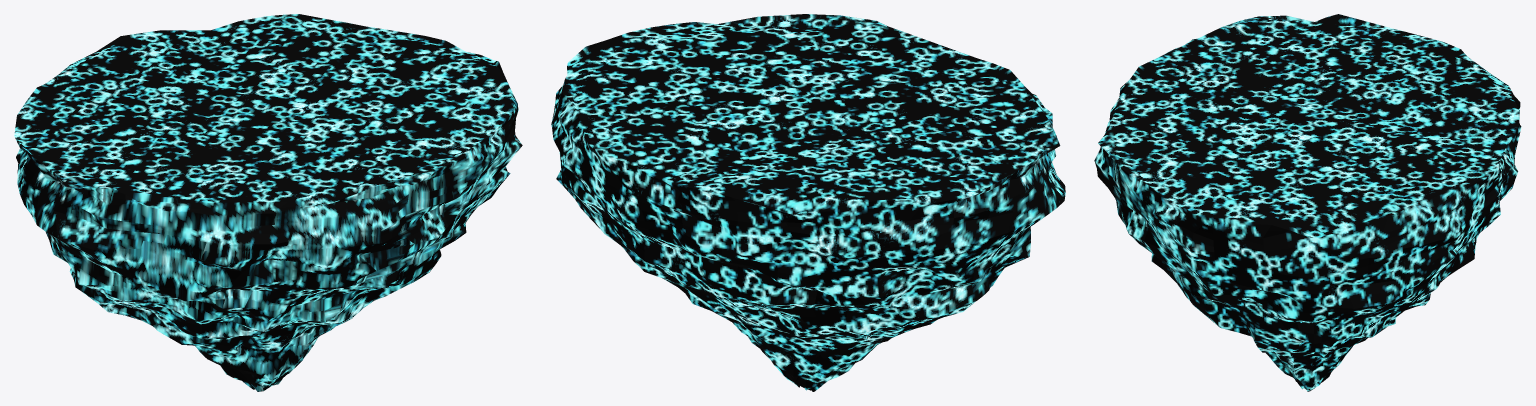
The model's file is upper-island.glb.
The picture shows the model from 3 angles, left to right: view 1: azimuth 30°, elevation 25°; view 2: azimuth 150°, elevation 25°; view 3: azimuth 270°, elevation 25°; orthographic projection. The views are drawn at different scales.
Parts seen in each view (by area): view 1: skl_upper_island; view 2: skl_upper_island; view 3: skl_upper_island.
Part boxes in pixels (left/top/right/bottom): skl_upper_island: left=14, top=14, right=522, bottom=391; skl_upper_island: left=551, top=14, right=1065, bottom=391; skl_upper_island: left=1094, top=14, right=1521, bottom=391.
Size of the model in its own units: 56.17 by 32.34 by 46.34.
2 materials, 1 textured.
